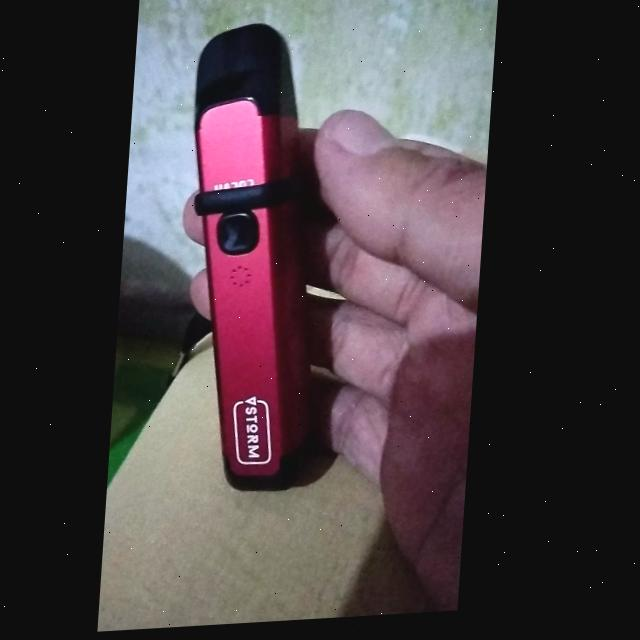vape: (174, 18, 362, 500)
